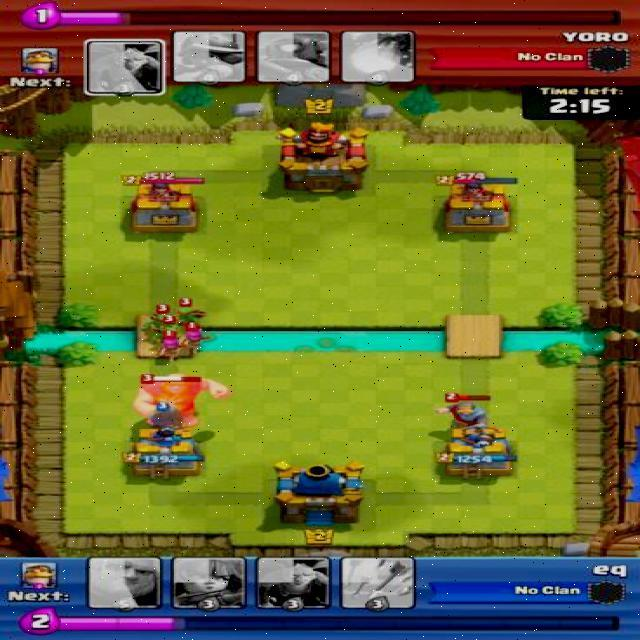EArcher: (183, 328, 205, 352), (161, 338, 179, 357)
EGiant: (135, 375, 227, 415)
EKingTower: (278, 126, 371, 193)
EKnight: (447, 401, 487, 432)
ESpearGoblin: (175, 303, 202, 327), (152, 314, 174, 326), (154, 326, 170, 337)
EnemyPrincessTower: (444, 173, 518, 234), (132, 169, 200, 234)
OwnKingTower: (274, 460, 368, 537)
OwnPrincessTower: (133, 431, 198, 480), (442, 433, 510, 473)
